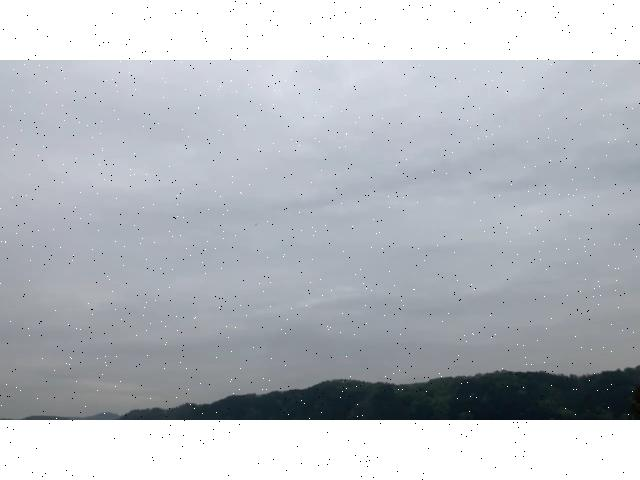Anti-Drone: (244, 217, 270, 231)
